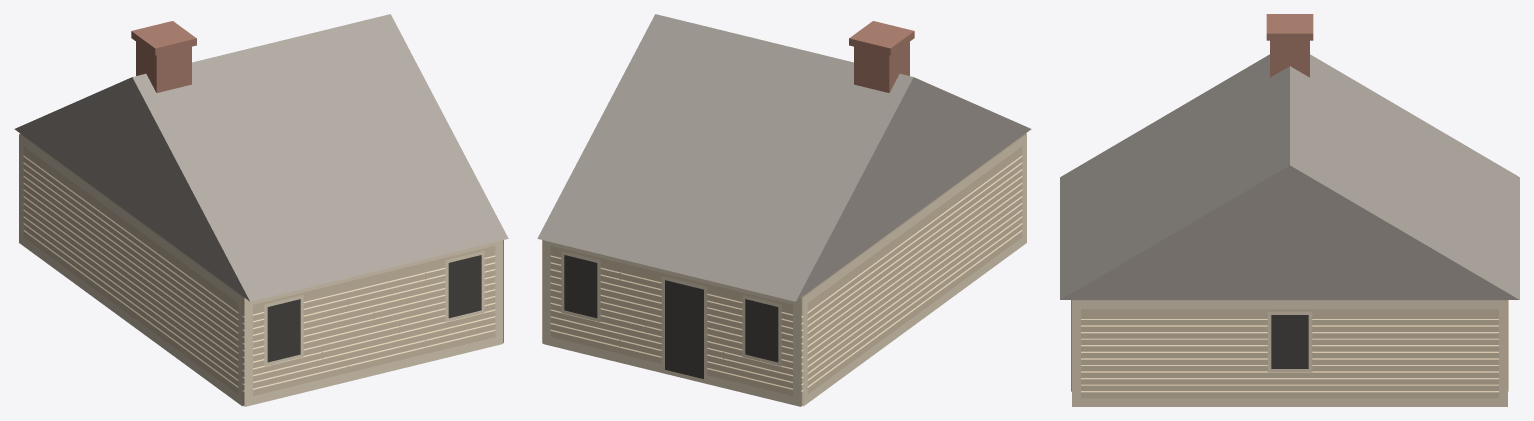
Rendered from recon_1835_west_044__inferred_1835.glb.
3 views of the same model, side by side, from view 1: azimuth 30°, elevation 25°; view 2: azimuth 150°, elevation 25°; view 3: azimuth 270°, elevation 25° (orthographic). The views are drawn at different scales.
Visible parts, largest first — view 1: recon_1835_west_044__inferred_1835; view 2: recon_1835_west_044__inferred_1835; view 3: recon_1835_west_044__inferred_1835.
Boxes of the visible parts, x1,y1,x2,y2 form: recon_1835_west_044__inferred_1835: (14, 14, 508, 406); recon_1835_west_044__inferred_1835: (537, 14, 1031, 406); recon_1835_west_044__inferred_1835: (1060, 14, 1519, 406).
Size of the model in its own units: 6.18 by 6.36 by 9.64.
